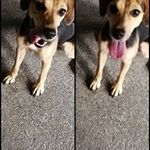puppy: (97, 1, 150, 62), (17, 1, 76, 50)
